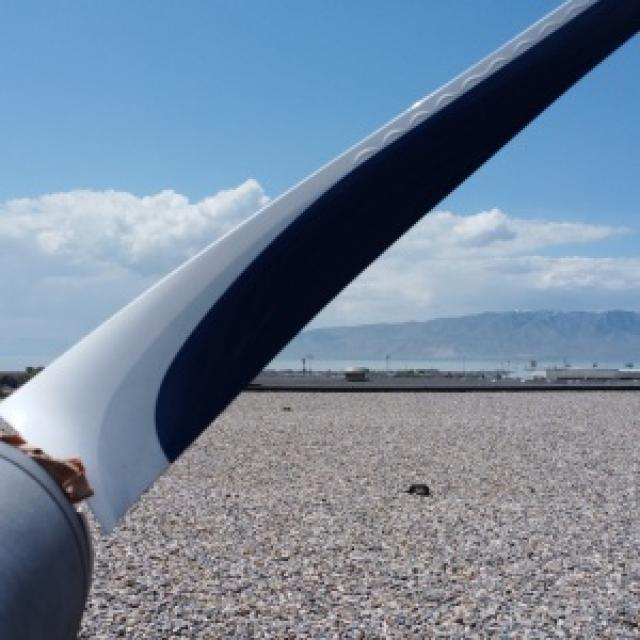healthy: (0, 442, 87, 638)
